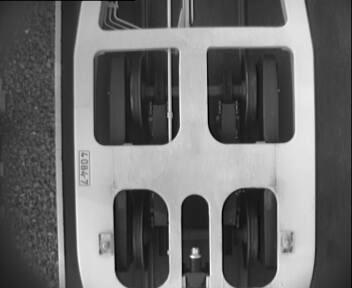Copy of wagon_scan: (107, 182, 284, 288)
